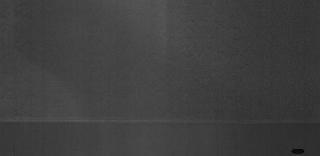punching hole: (290, 147, 306, 155)
silk spot: (164, 9, 264, 109), (1, 7, 51, 111)
welding line: (4, 114, 316, 130)
